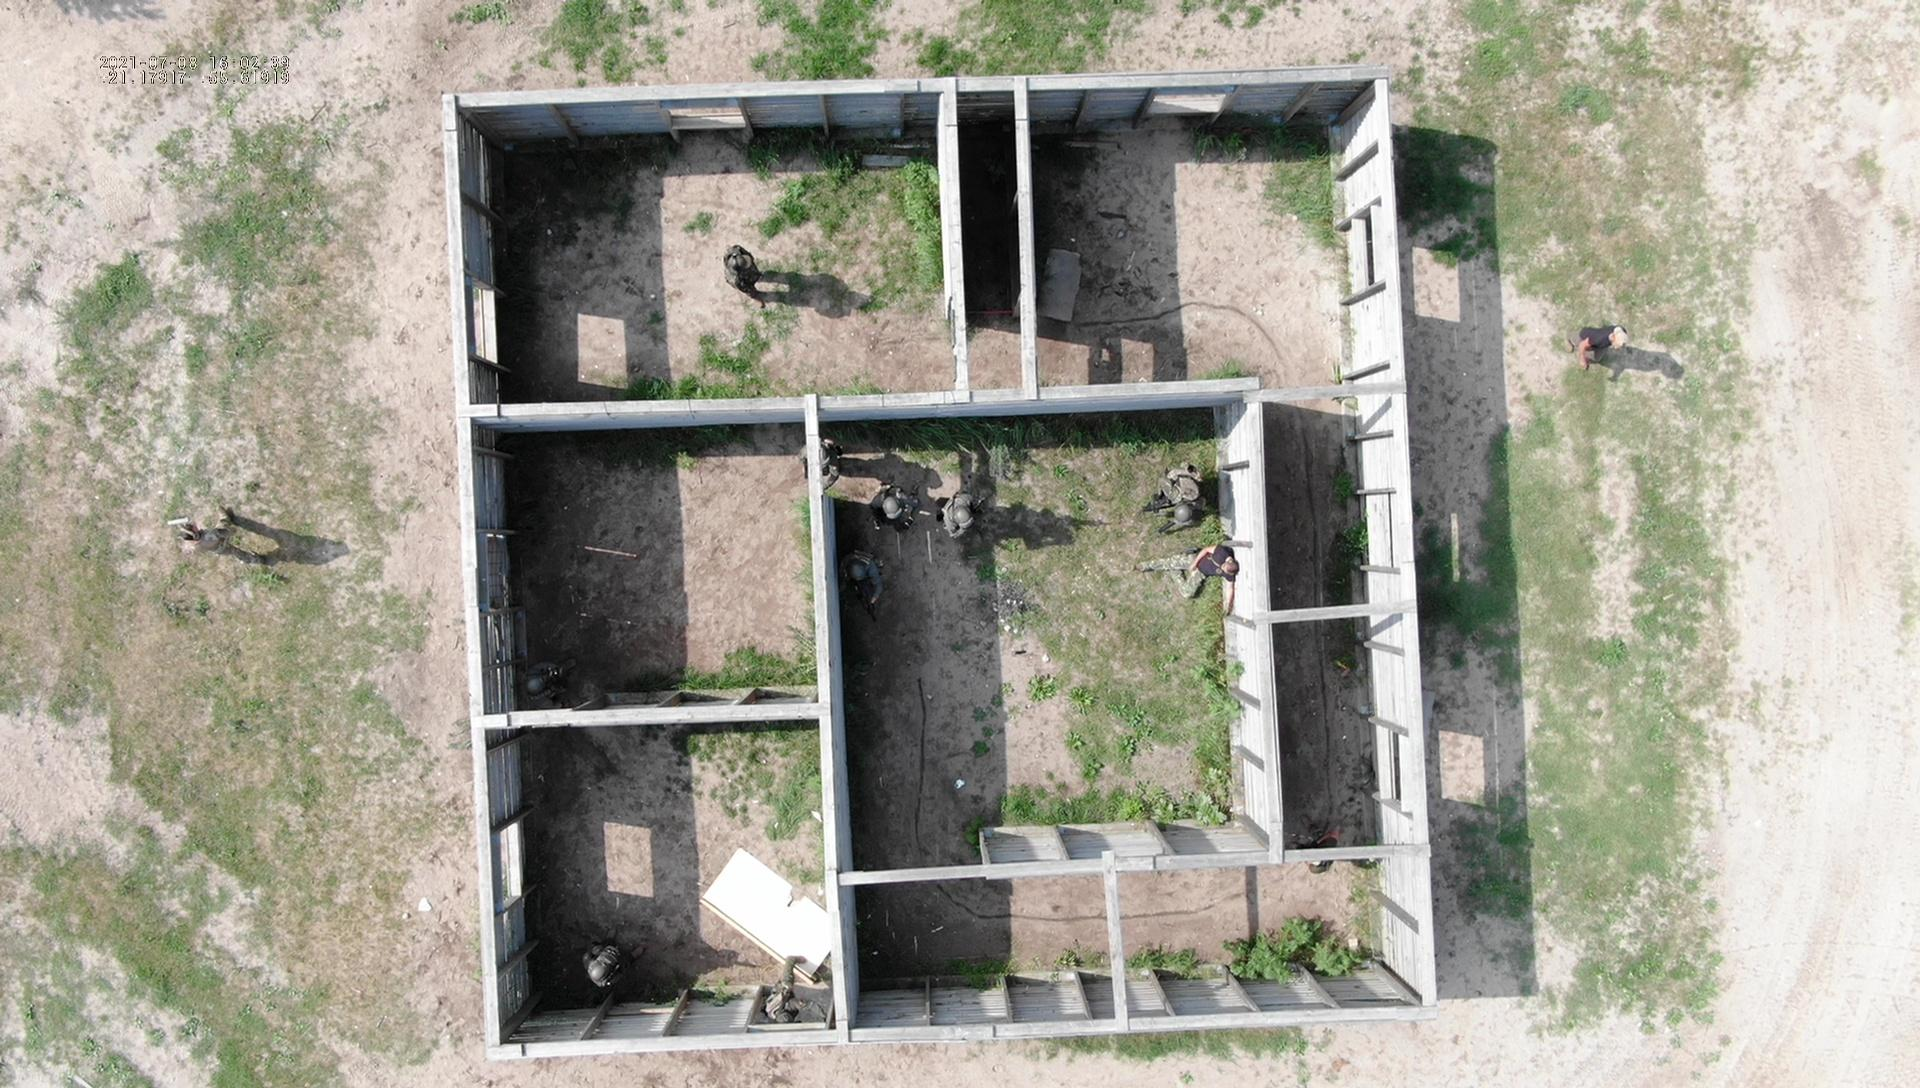Soldier: (173, 497, 273, 584), (1143, 460, 1226, 535), (756, 951, 818, 1035), (707, 232, 774, 309), (852, 473, 923, 542), (571, 936, 651, 996), (829, 547, 901, 613), (934, 473, 982, 549), (521, 651, 585, 707)
